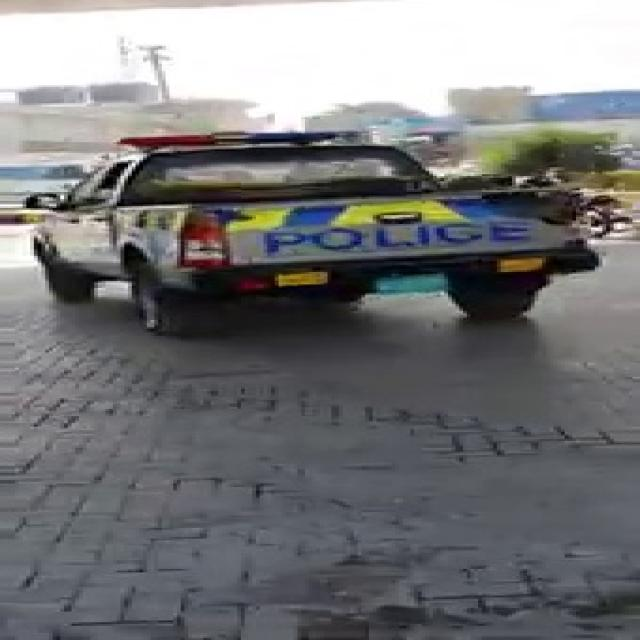police: (35, 153, 561, 344)
